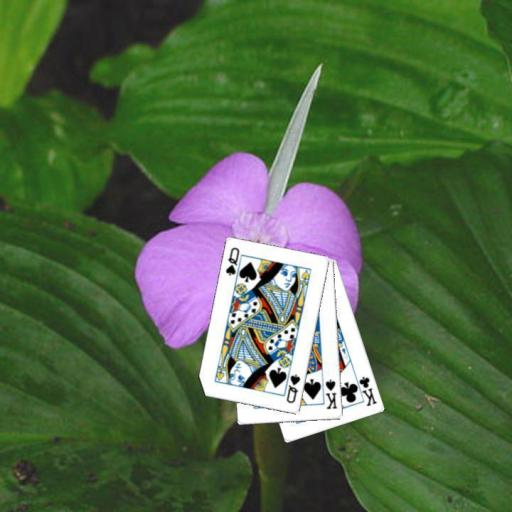card-corner: (352, 372, 378, 408), (284, 371, 302, 405), (223, 245, 241, 277), (323, 376, 338, 411)
